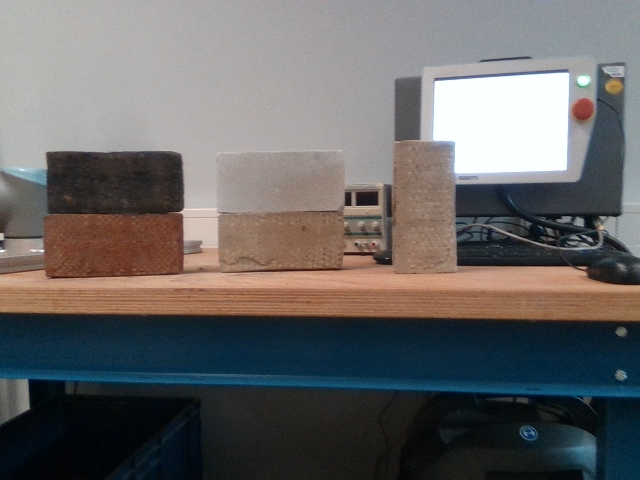brick: (45, 216, 179, 271), (48, 154, 179, 208), (397, 145, 450, 270), (219, 157, 341, 208), (221, 216, 339, 263)
